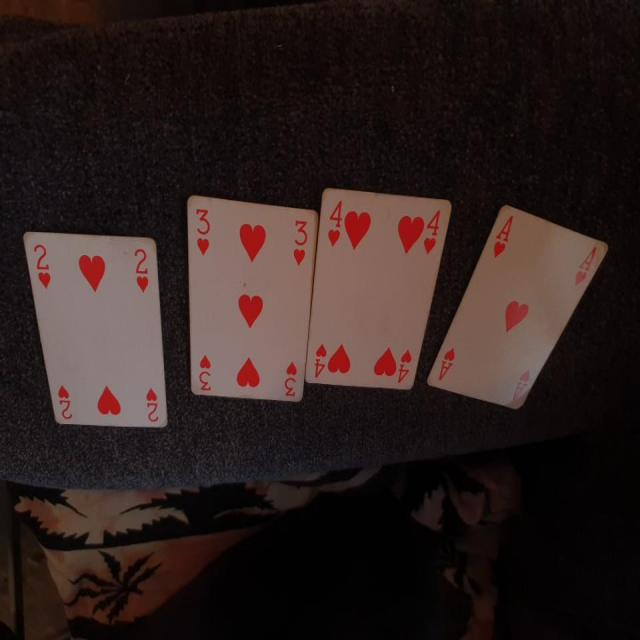2 Hearts: (21, 226, 169, 444)
3 Hearts: (174, 188, 321, 410)
4 Hearts: (311, 178, 459, 405)
A Hearts: (430, 200, 607, 417)
